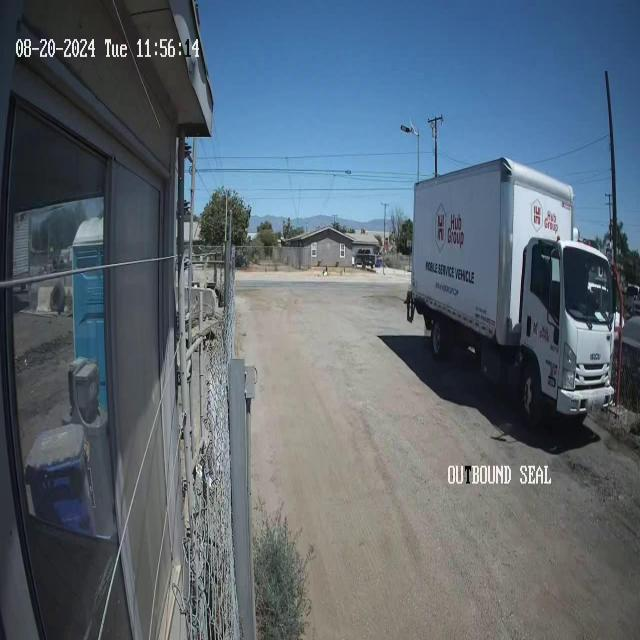TRUCK_IN: (406, 156, 620, 430)
